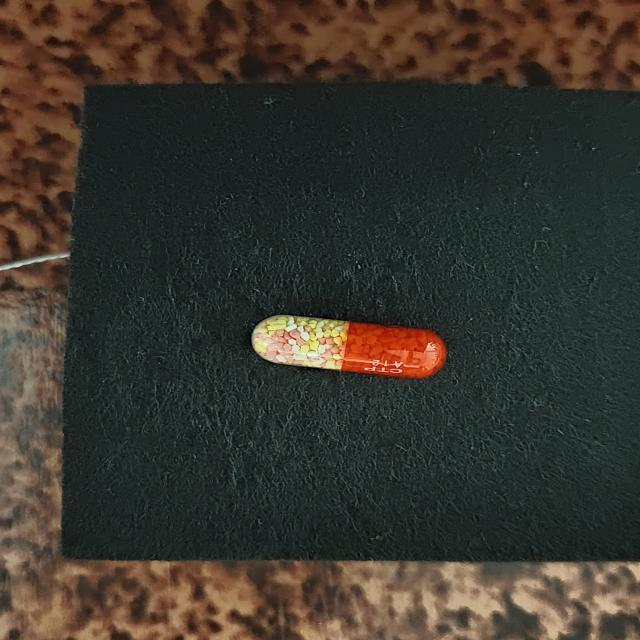Intact Capsule: (251, 315, 447, 378)
